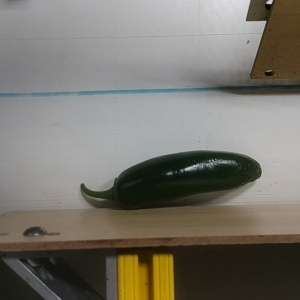Cut Point: (104, 168, 132, 212)
